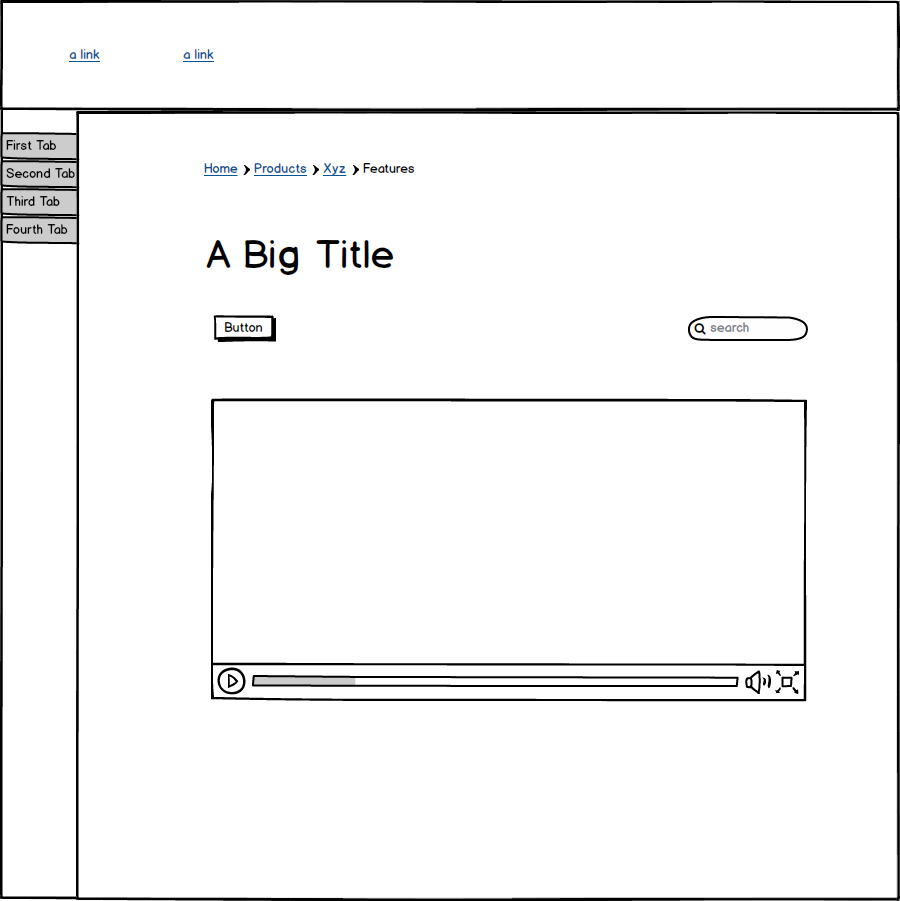button: (208, 308, 283, 345)
h1: (205, 227, 398, 283), (197, 149, 427, 186)
navlink: (174, 39, 213, 68), (59, 42, 102, 67)
search: (682, 308, 831, 353)
sidebar: (1, 114, 86, 250)
video: (200, 392, 820, 711)
